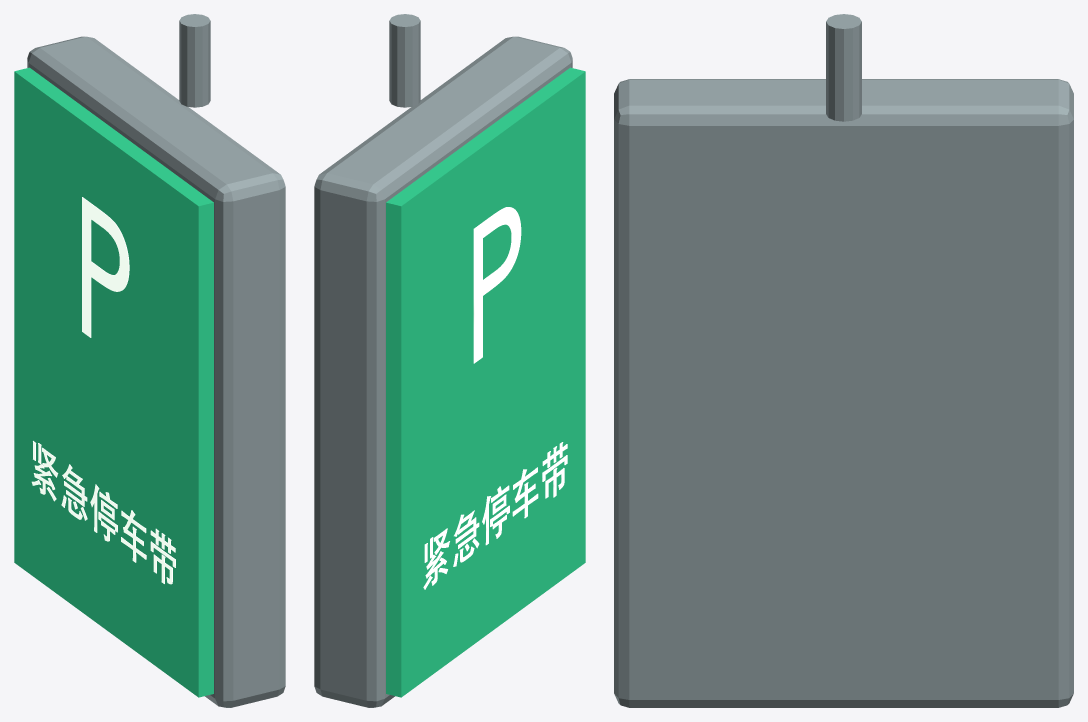
File: layby-sign.glb
The picture shows the model from 3 angles, left to right: view 1: azimuth 30°, elevation 25°; view 2: azimuth 150°, elevation 25°; view 3: azimuth 270°, elevation 25°; orthographic projection. The views are drawn at different scales.
Parts seen in each view (by area): view 1: Parking sign face, Parking sign, P; view 2: Parking sign face, Parking sign, P; view 3: Parking sign.
Part boxes in pixels (box(x1,y1,x2,y2)): Parking sign face: box(14, 67, 213, 697); Parking sign: box(27, 14, 285, 707); P: box(31, 197, 175, 584); Parking sign face: box(386, 67, 585, 697); Parking sign: box(314, 14, 572, 707); P: box(423, 207, 567, 589); Parking sign: box(614, 14, 1073, 707).
Bounding box in the file's own units: 0.272 × 1.5 × 0.9.
